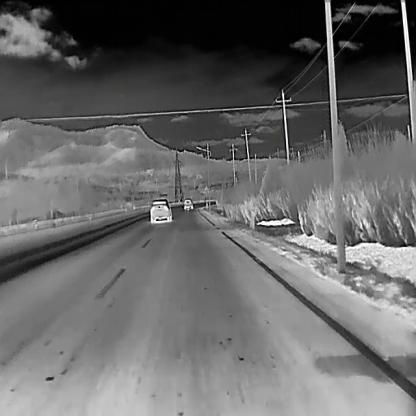car: (149, 198, 171, 223), (182, 197, 192, 209)
